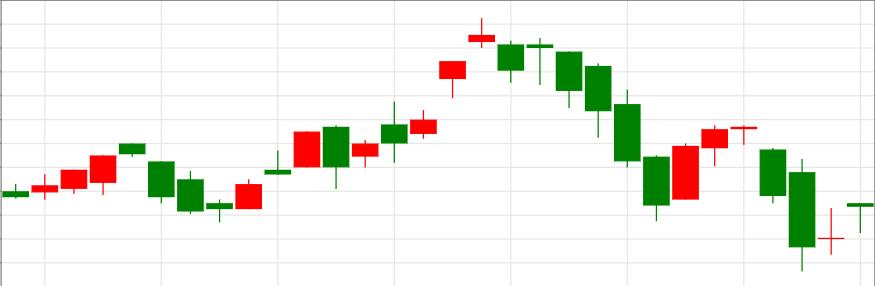morning_star_rise: (118, 142, 263, 222)
